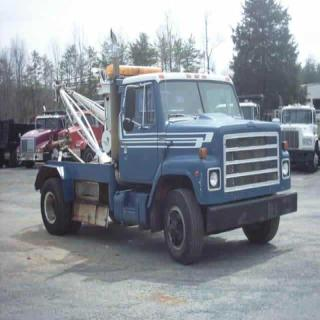Towing_truck: (33, 50, 298, 265)
